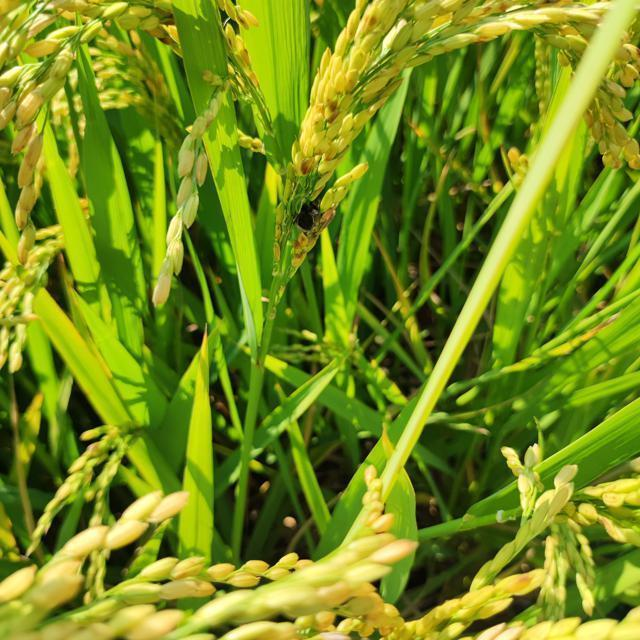Leaf_Scald: (292, 196, 325, 234)
